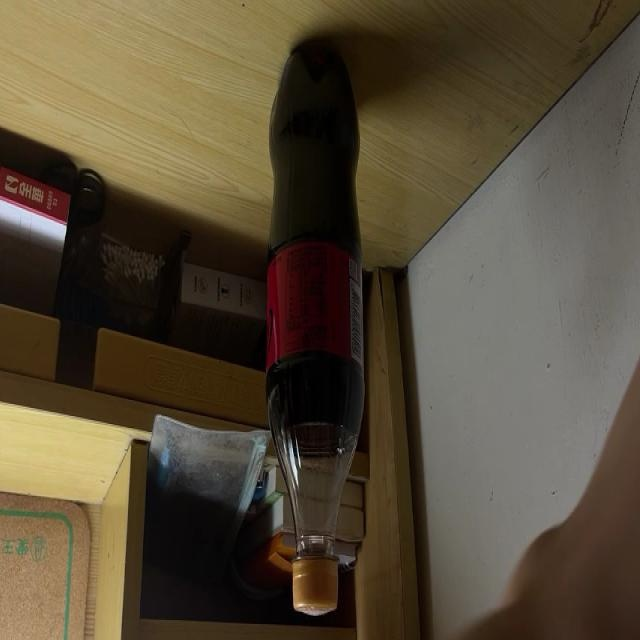Coca-Cola: (264, 48, 365, 617)
